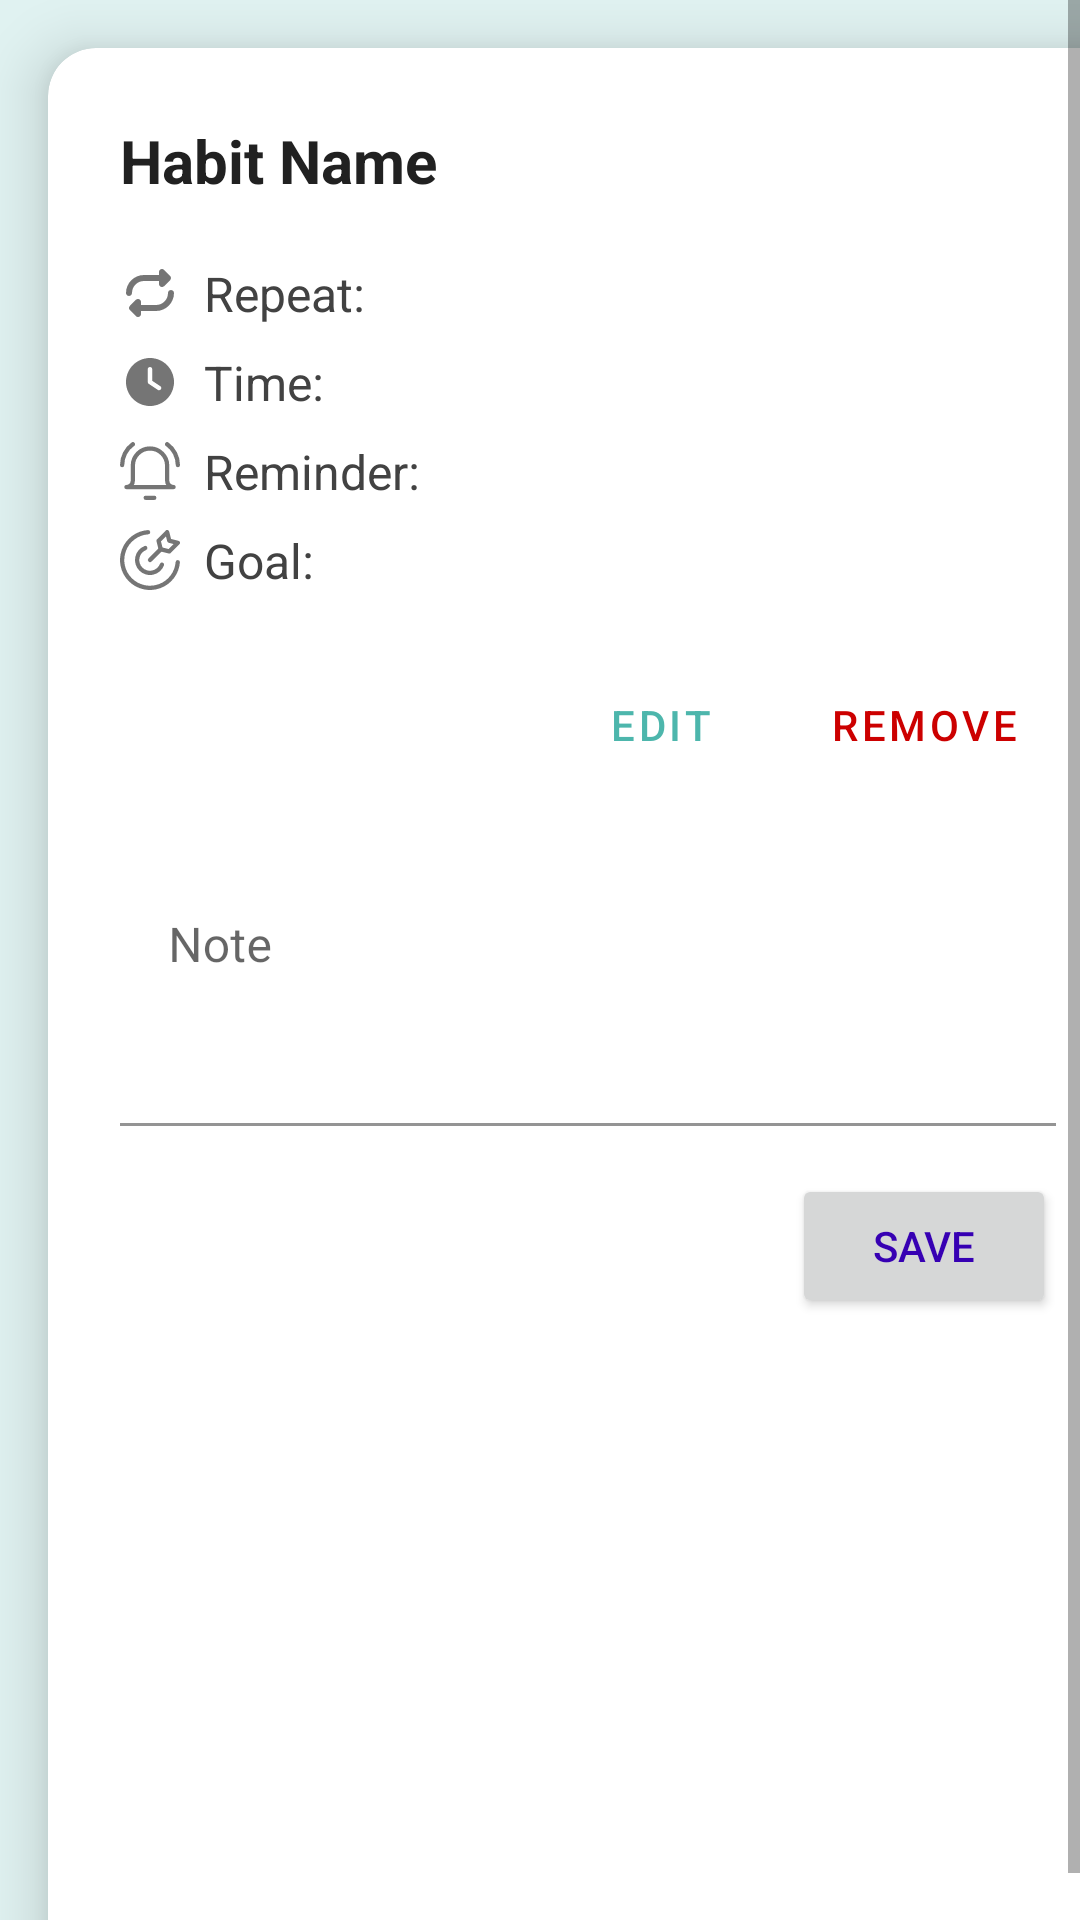

Where icons sit on this 1080x1920 app screen, as (x1, y1, x2, y2):
bell: (120, 442, 180, 500)
clock: (126, 358, 174, 406)
